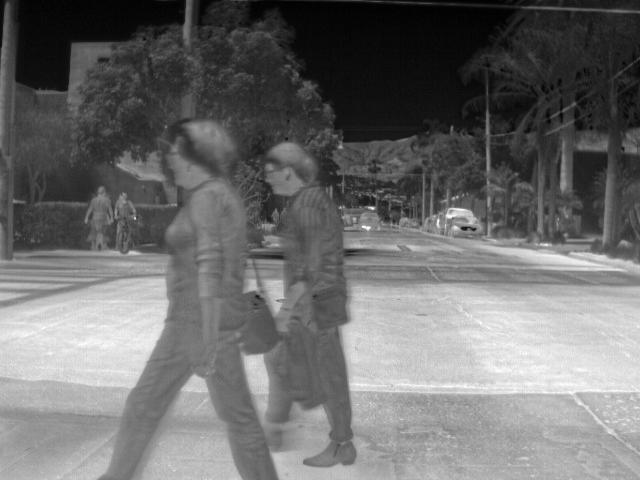car: (440, 207, 472, 236), (447, 218, 485, 239), (359, 210, 382, 231)
person: (107, 117, 279, 479), (264, 143, 358, 465), (82, 188, 115, 252), (111, 189, 140, 253), (270, 205, 282, 223)
